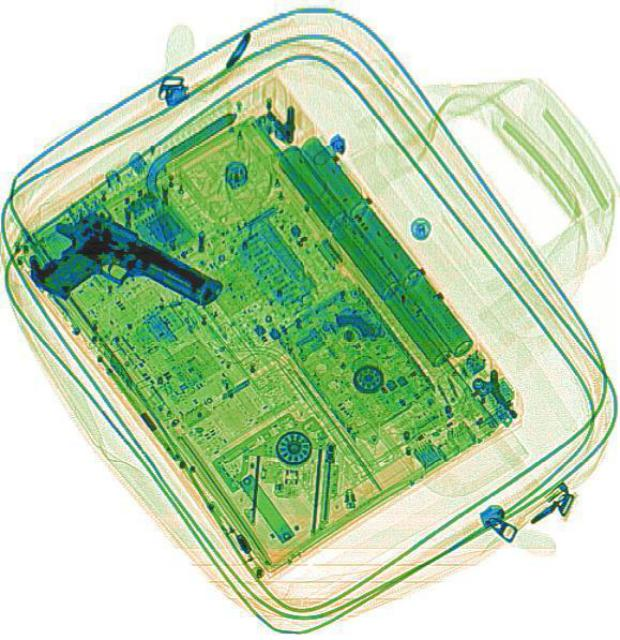Gun: (20, 195, 225, 362)
